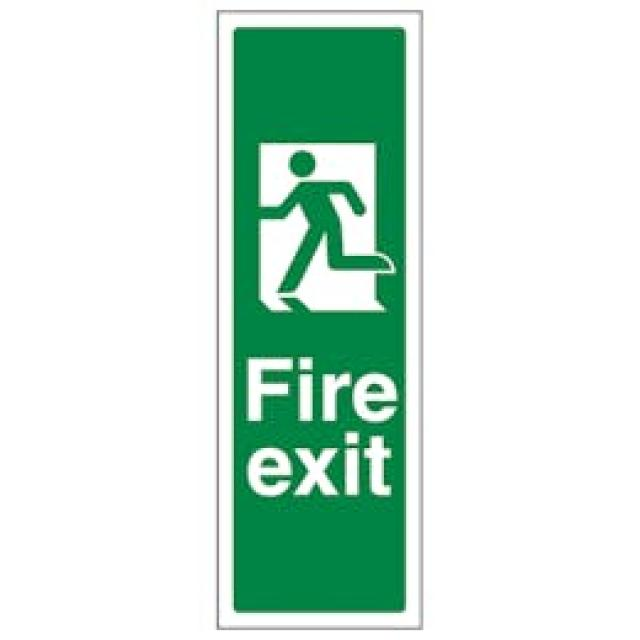exit_sign: (215, 3, 436, 630)
